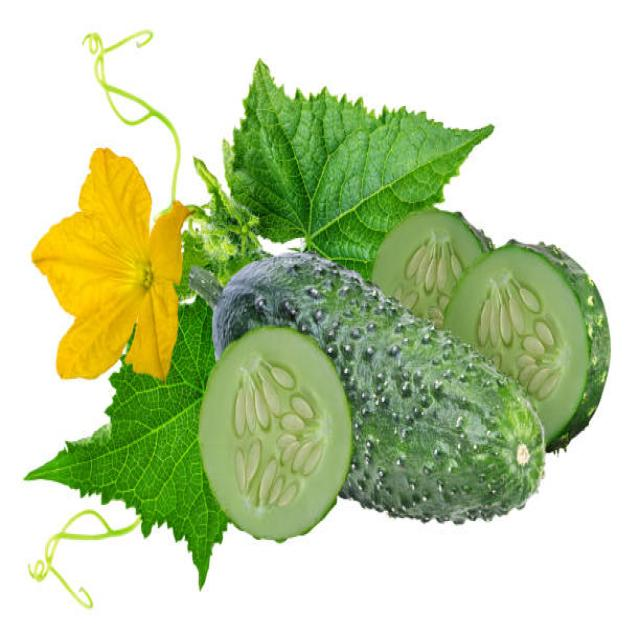cucumber: (212, 250, 548, 522)
